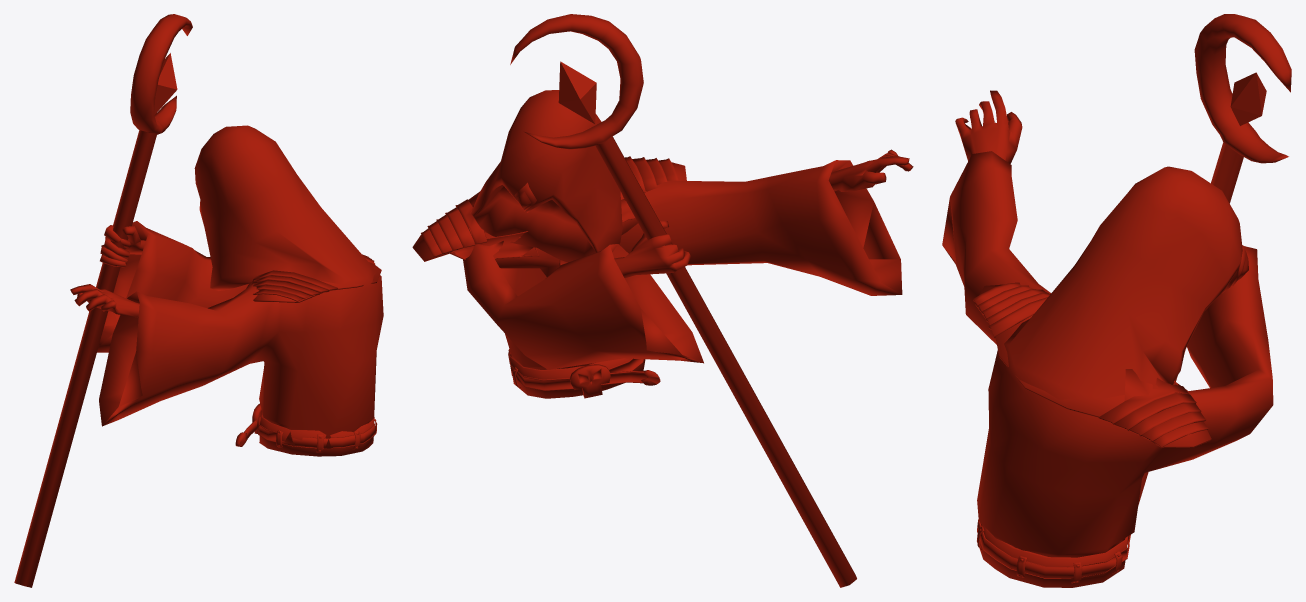
File: top_000056.obj
3 renders of one model, left to right at view 1: azimuth 30°, elevation 25°; view 2: azimuth 150°, elevation 25°; view 3: azimuth 270°, elevation 25°, orthographic. The views are drawn at different scales.
Parts seen in each view (by area): view 1: LowPoly_Warlock.000_Plane.005; view 2: LowPoly_Warlock.000_Plane.005; view 3: LowPoly_Warlock.000_Plane.005.
Part boxes in pixels (bbox=[...]): LowPoly_Warlock.000_Plane.005: bbox=[14, 14, 383, 587]; LowPoly_Warlock.000_Plane.005: bbox=[412, 14, 913, 587]; LowPoly_Warlock.000_Plane.005: bbox=[942, 14, 1291, 587].
Size of the model in its own units: 1.36 by 1.73 by 0.8822.
